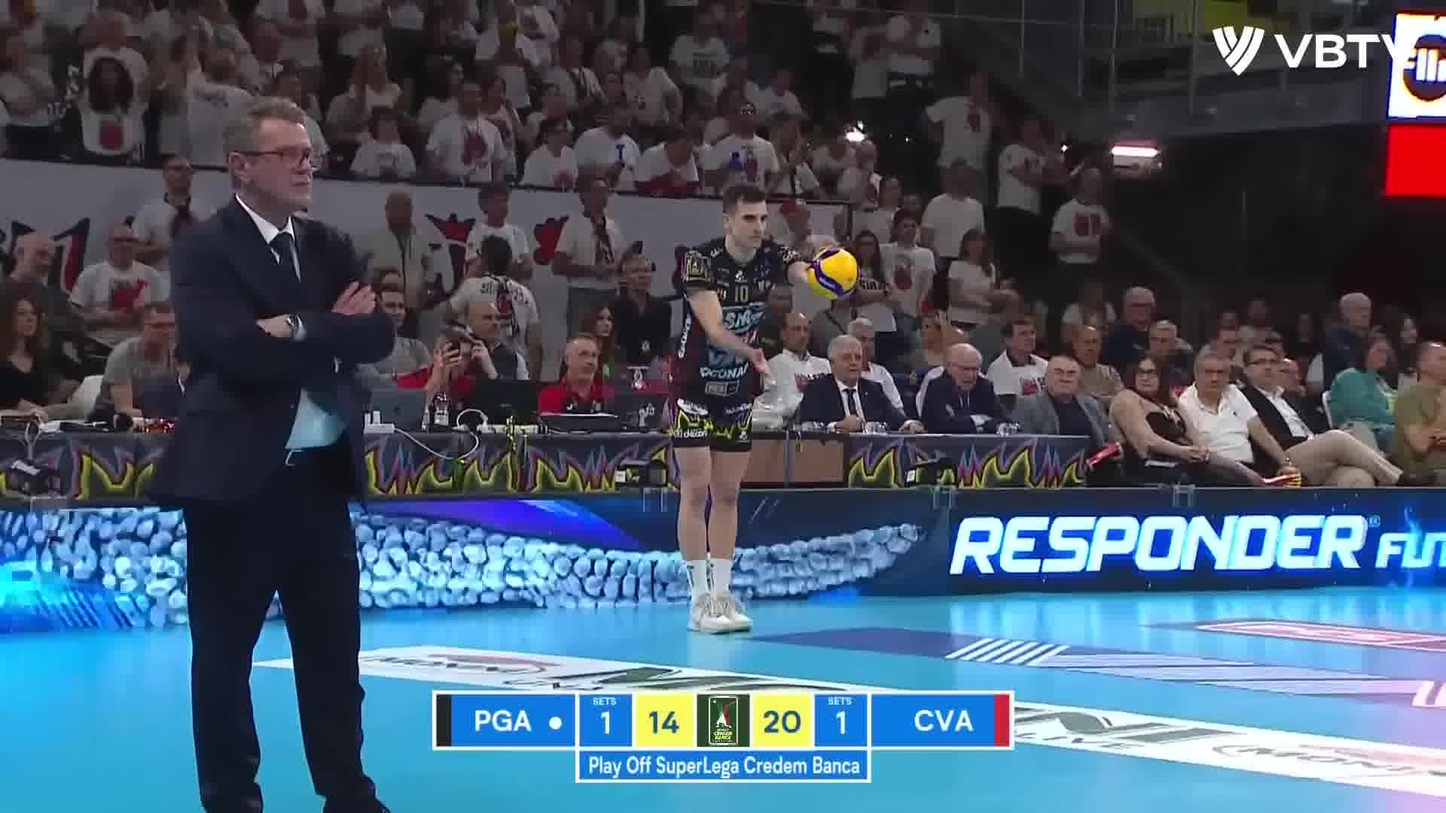balls: (798, 238, 867, 306)
